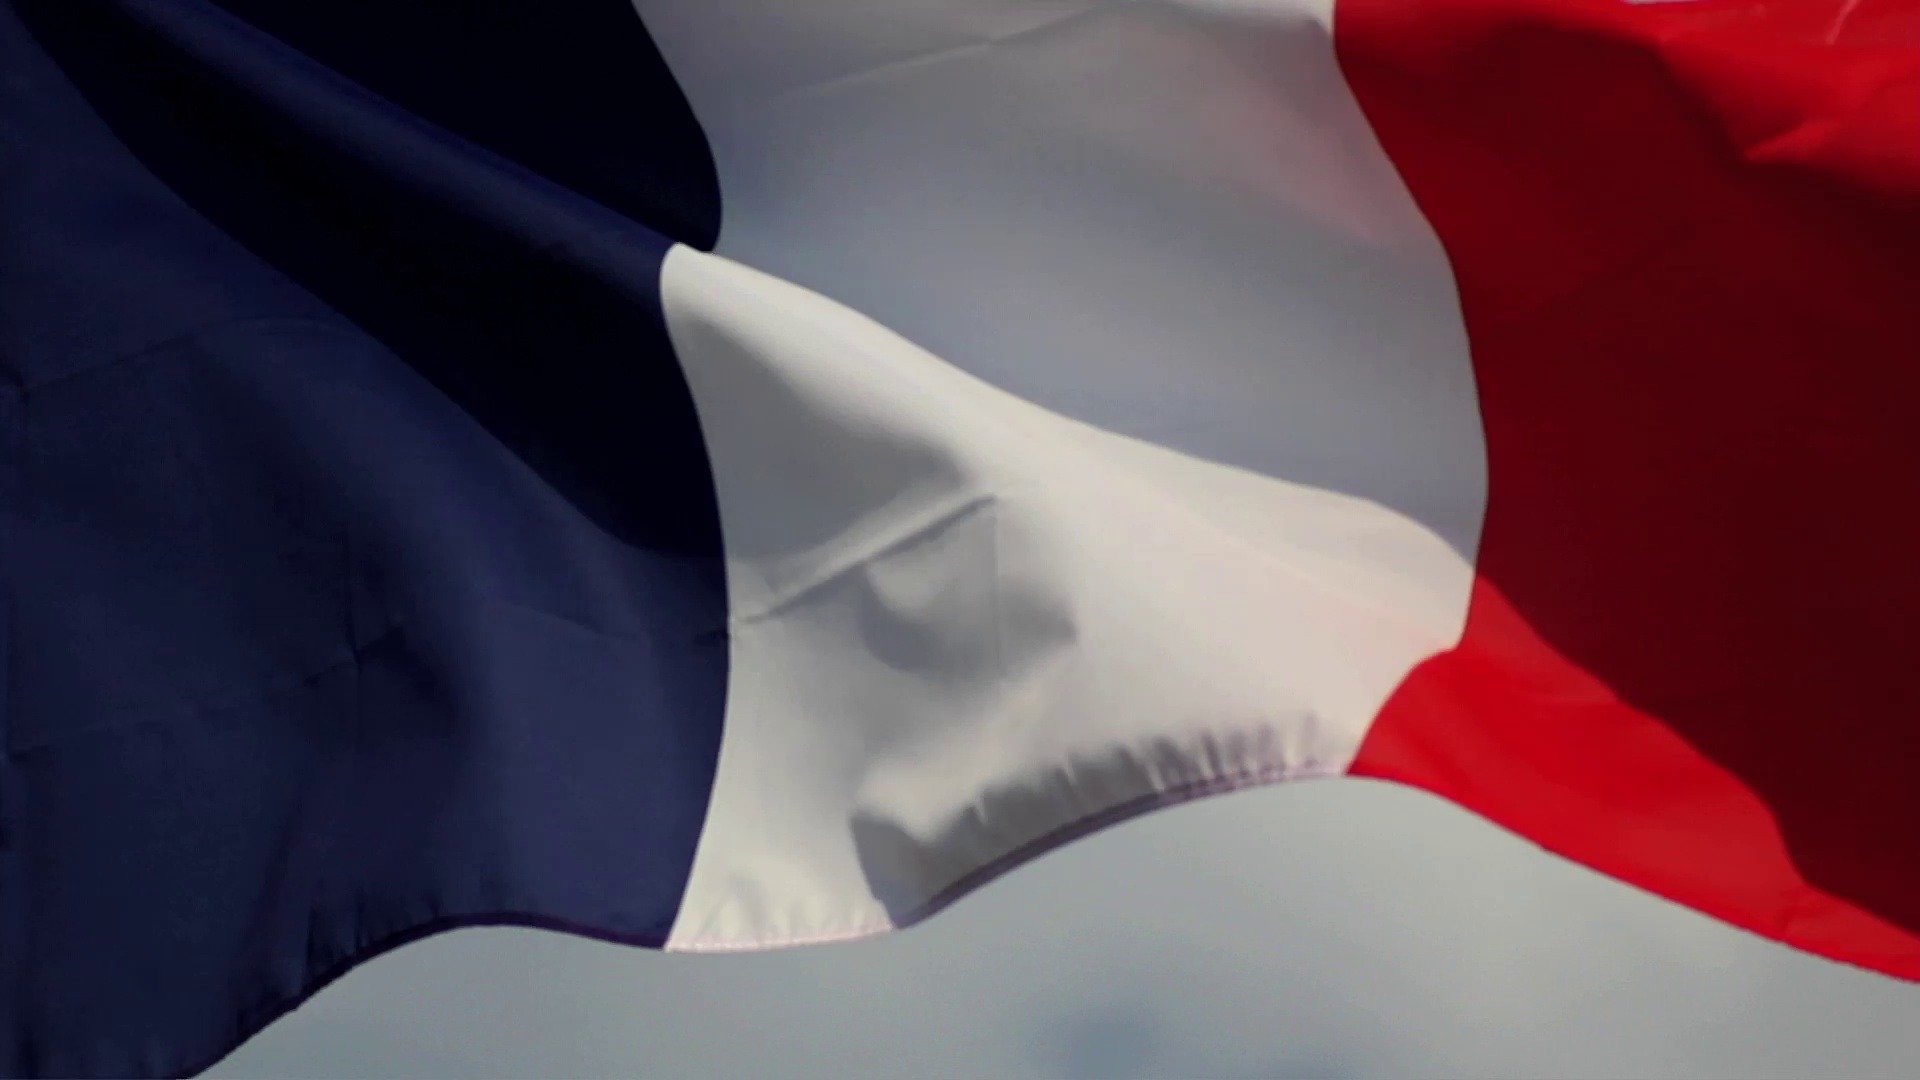French Flag: (1, 1, 1920, 1080)
